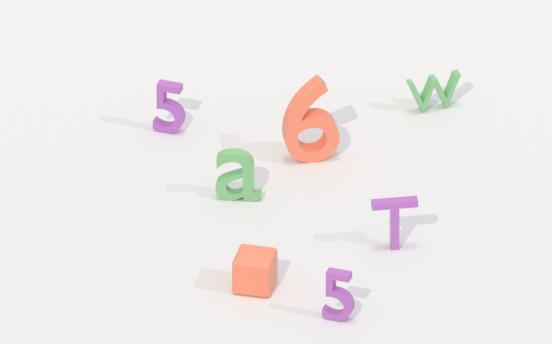5: (151, 74, 191, 140), (320, 262, 358, 327)
6: (280, 72, 343, 167)
a: (211, 144, 265, 205)
hop: (227, 240, 284, 303)
t-hoa: (368, 190, 422, 252)
w: (406, 68, 465, 113)
